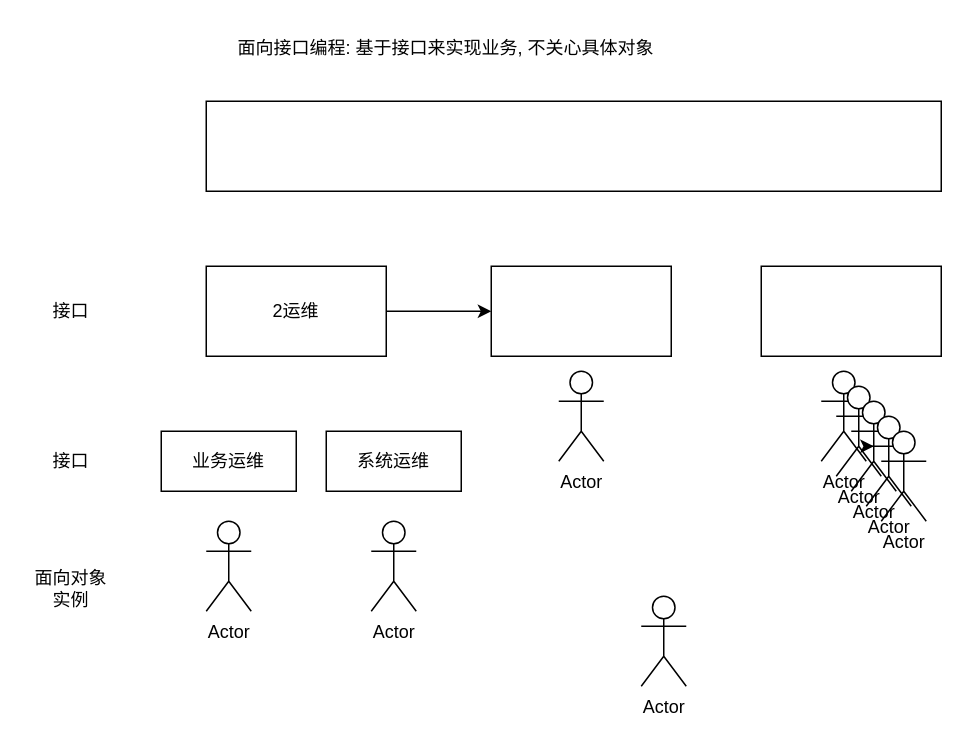
This 968x743 diagram has some shape labels left out. Each missing label, with the centre of its shape:
"1测试" belongs at [580,310].
"5个开发" belongs at [850,310].
"开发产品A （基于接口的一个业务)" belongs at [573,145].
